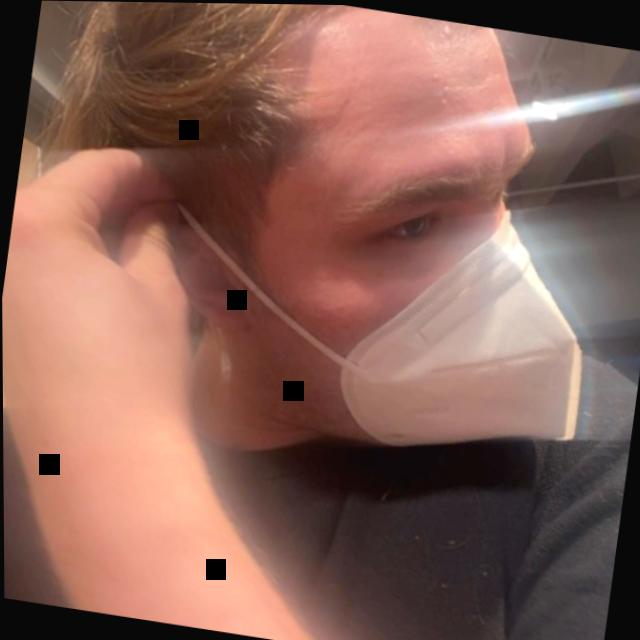Mask: (67, 1, 640, 446)
